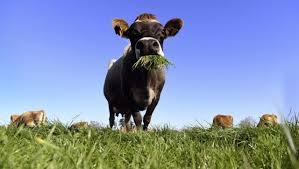cow: (102, 12, 184, 133)
